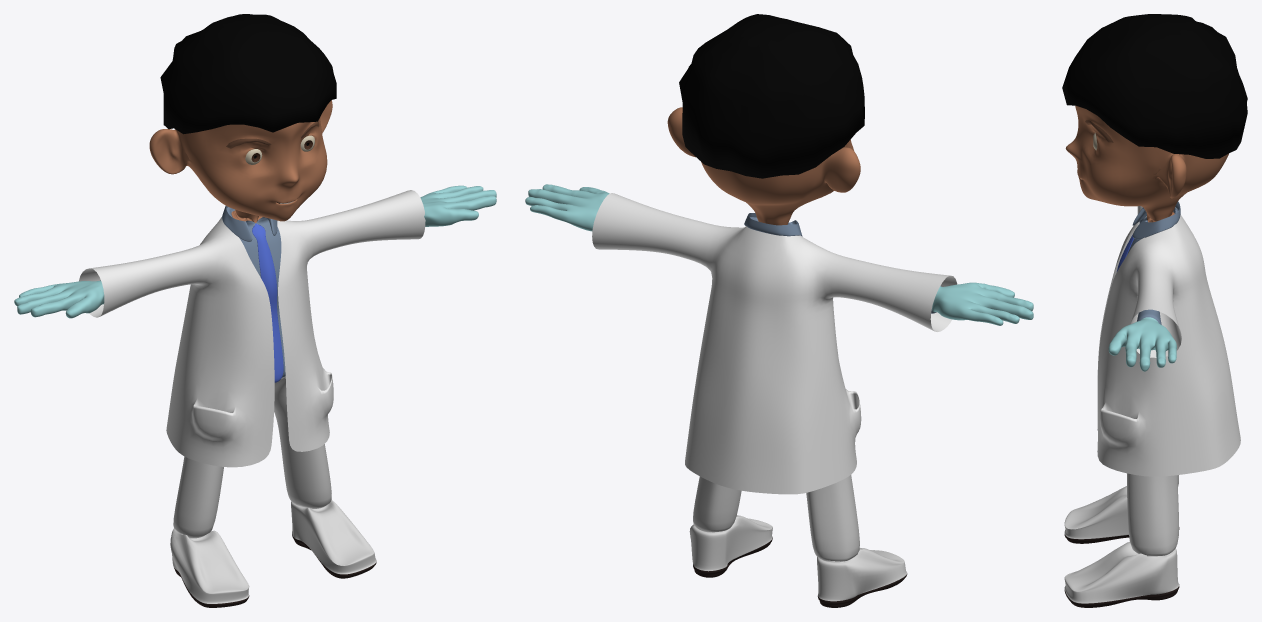
File: Indio.fbx
3 renders of one model, left to right at view 1: azimuth 30°, elevation 25°; view 2: azimuth 150°, elevation 25°; view 3: azimuth 270°, elevation 25°, orthographic. The views are drawn at different scales.
Visible parts, largest first — view 1: Sphere, Totem.008; view 2: Sphere, Totem.008; view 3: Sphere, Totem.008.
Part boxes in pixels (x1,y1,x2,y2): Sphere: [14, 14, 496, 607]; Totem.008: [79, 190, 425, 467]; Sphere: [525, 14, 1033, 607]; Totem.008: [592, 193, 957, 494]; Sphere: [1062, 14, 1247, 607]; Totem.008: [1097, 206, 1240, 476].
Size of the model in its own units: 906 by 967 by 300.
